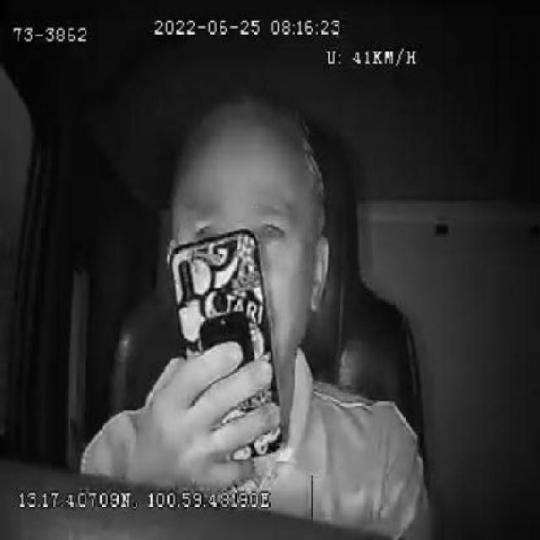phone: (168, 227, 285, 461)
